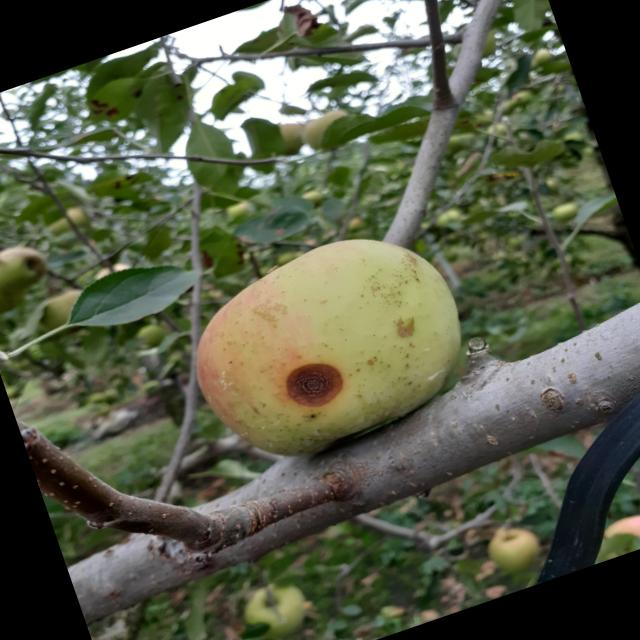rotten: (155, 205, 503, 500)
